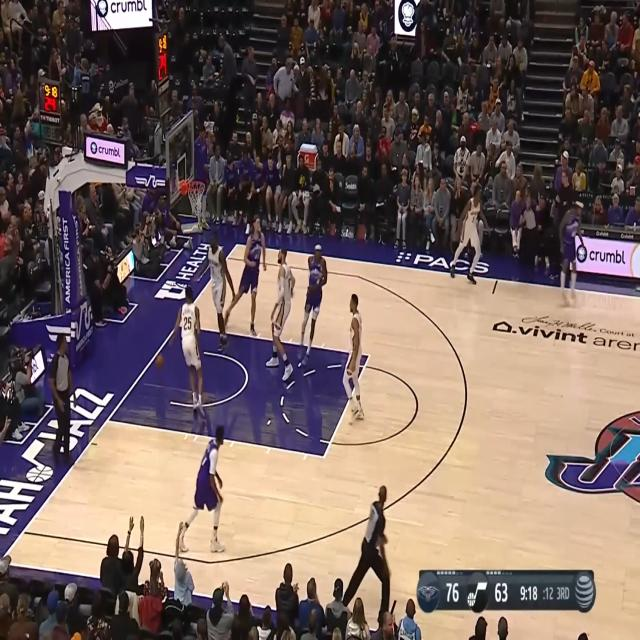Ball: (156, 351, 164, 368)
Clock: (38, 80, 61, 114), (157, 30, 169, 84)
Hoop: (187, 179, 204, 217)
Overlay: (417, 570, 596, 614)
Player: (175, 424, 228, 554), (224, 216, 268, 336), (168, 284, 206, 418), (266, 240, 296, 382), (198, 232, 236, 343), (450, 182, 491, 282), (298, 238, 328, 361), (558, 196, 586, 304), (343, 293, 364, 423)
Ref: (338, 484, 393, 626), (47, 333, 79, 468)
Scoreboard: (417, 570, 572, 613)
